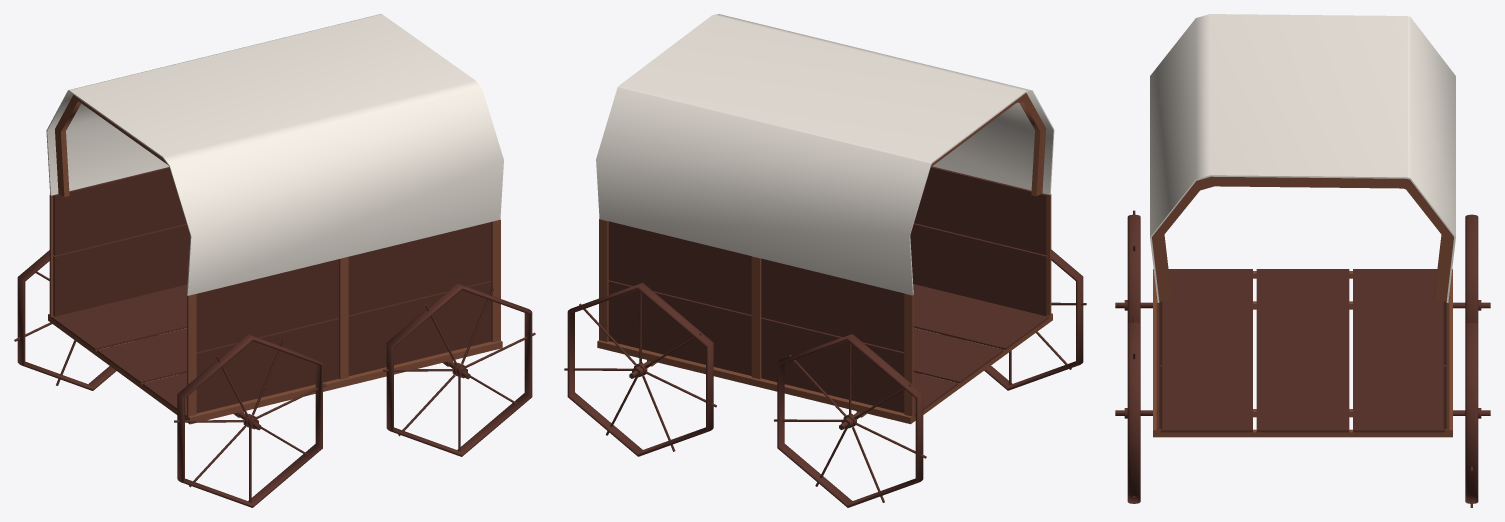
The model's file is Carts and Wagons.glb.
3 views of the same model, side by side, from view 1: azimuth 30°, elevation 25°; view 2: azimuth 150°, elevation 25°; view 3: azimuth 270°, elevation 25° (orthographic). The views are drawn at different scales.
Visible parts, largest first — view 1: Root; view 2: Root; view 3: Root.
Part boxes in pixels (left/top/right/bottom): Root: left=14, top=14, right=535, bottom=507; Root: left=564, top=14, right=1086, bottom=507; Root: left=1115, top=14, right=1490, bottom=507.
Size of the model in its own units: 3.49 by 3.11 by 2.98.
